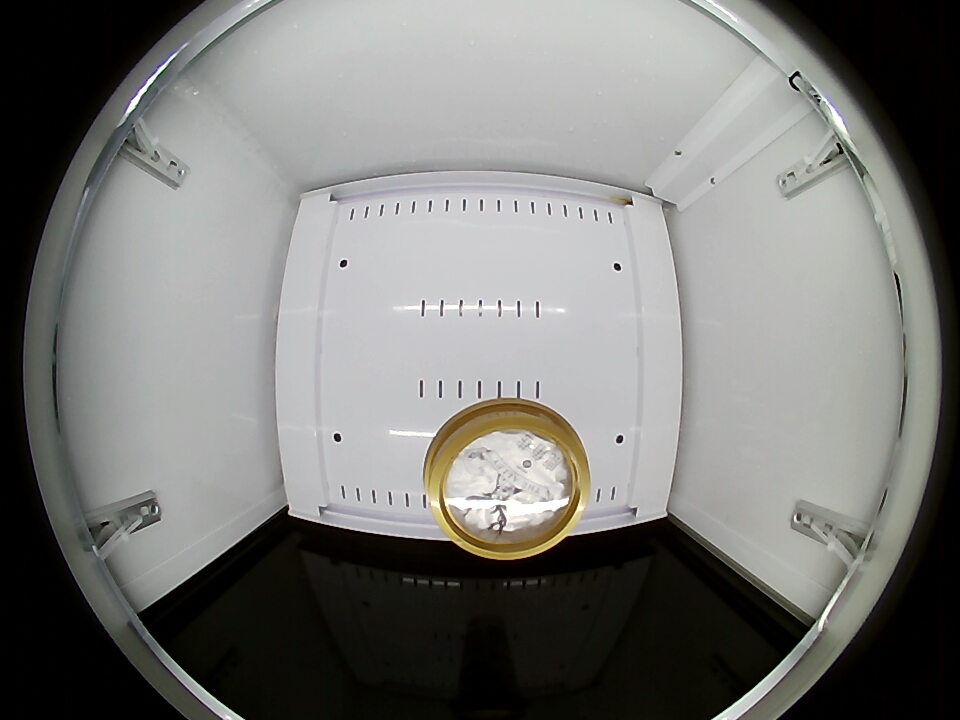lujiaoxiang: (424, 400, 590, 559)
